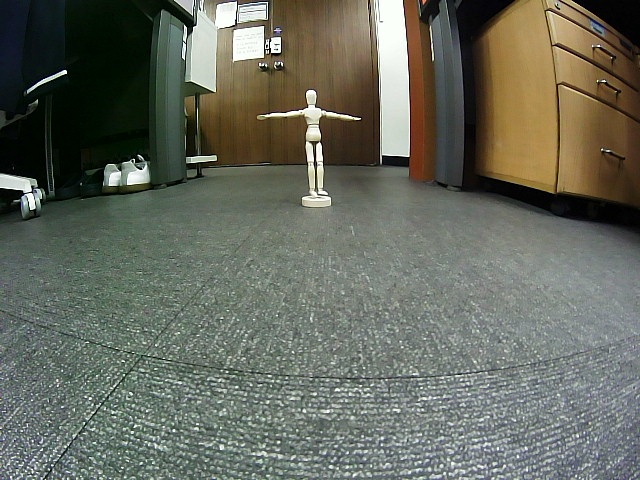person: (257, 88, 362, 198)
